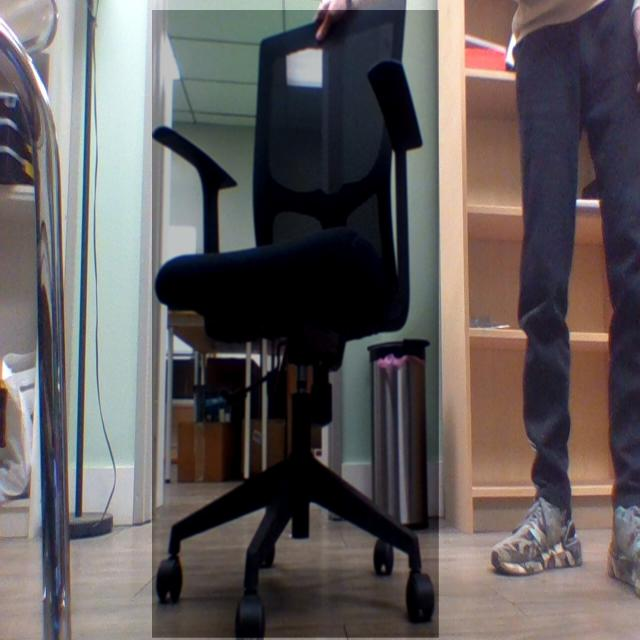black-chair: (152, 10, 440, 639)
